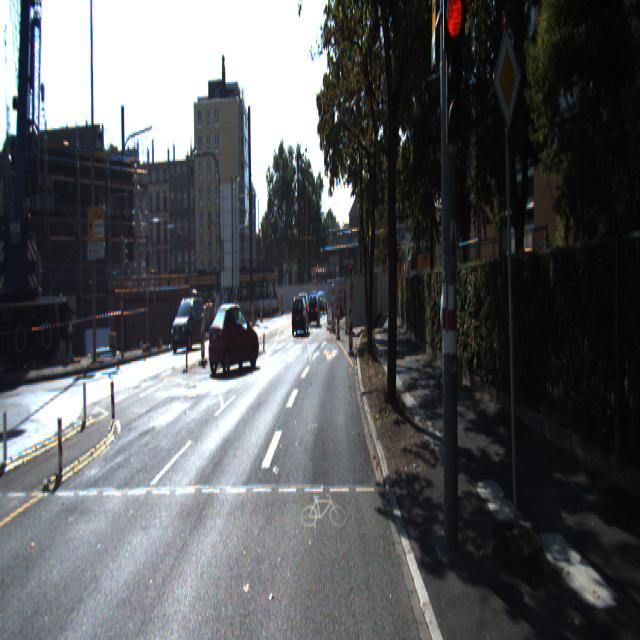Car: (207, 300, 261, 374), (170, 290, 205, 348), (291, 294, 309, 336)
